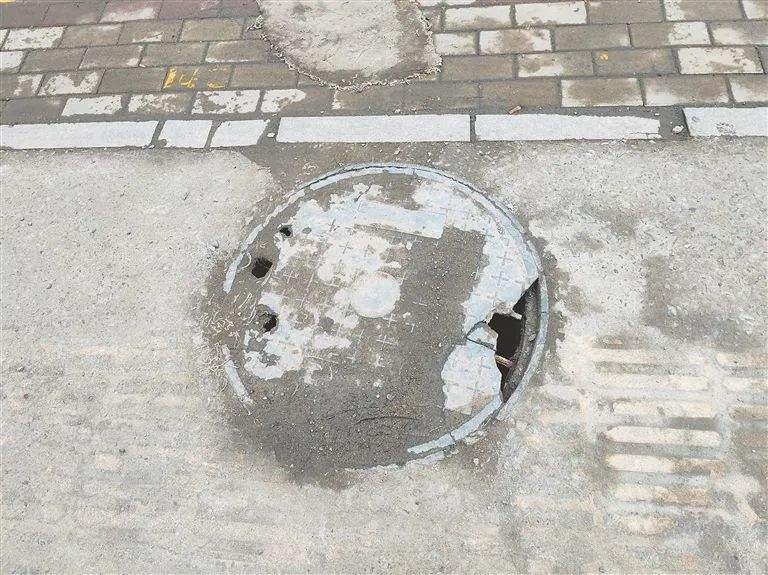well: (214, 161, 557, 468)
